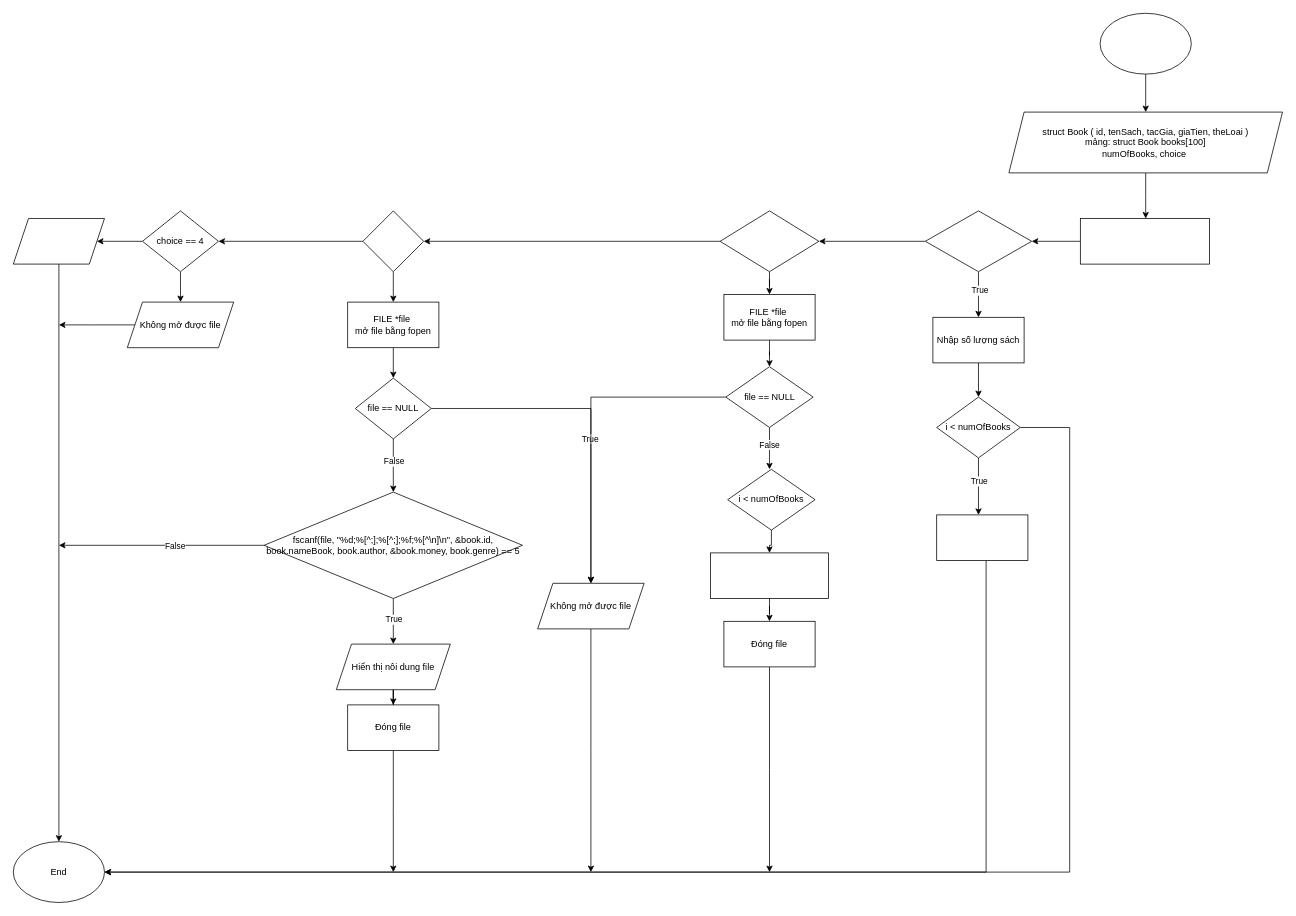
Image size: 1296x916. Some labels were removed from this diagram. The centre of each missing label's shape, as x and y in pixels:
choice == 1: (x=978, y=241)
choice == 2: (x=769, y=241)
choice == 3: (x=393, y=241)
in MENU: (x=1145, y=241)
Không hợp lệ: (x=58, y=241)
Nhập thông tin cho sách: (x=982, y=537)
Nhập thông tin vào file: (x=769, y=575)
Start: (x=1145, y=43)
